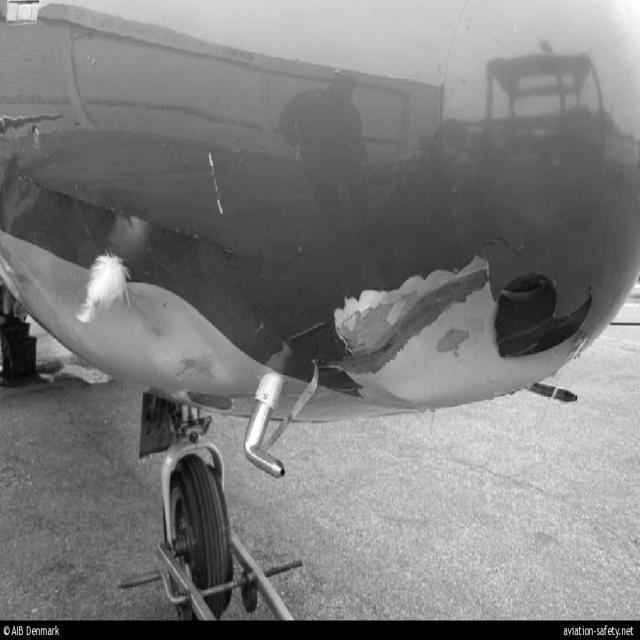crack: (480, 233, 531, 263)
dent: (381, 318, 453, 404), (119, 287, 176, 366), (188, 318, 237, 387)
